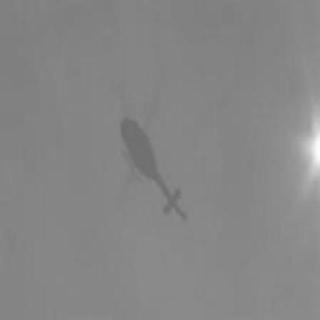other: (283, 93, 317, 200)
